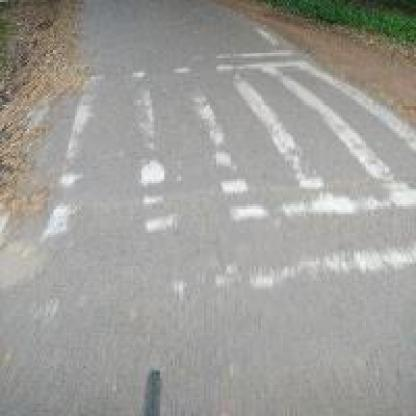Speed Bump: (0, 46, 414, 337)
